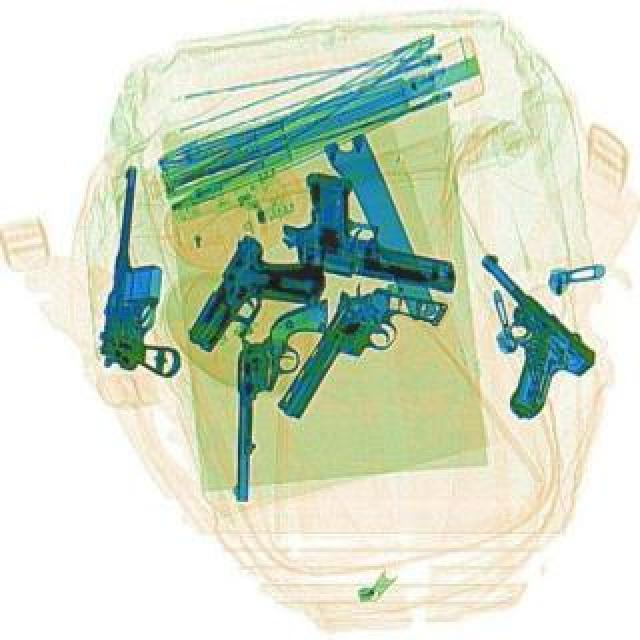gun: (264, 258, 450, 452), (412, 244, 604, 422), (272, 166, 472, 292), (92, 162, 208, 378), (178, 230, 330, 380), (232, 298, 328, 500)
